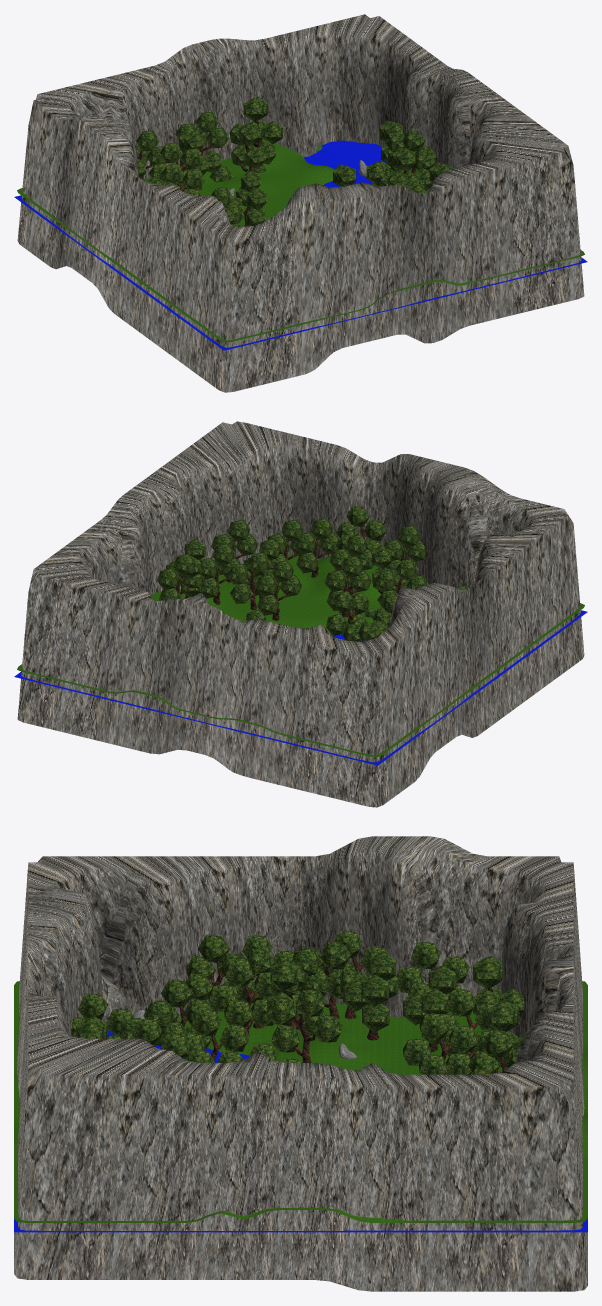
Rendered from homebb.obj.
3 views of the same model, one above another, from view 1: azimuth 30°, elevation 25°; view 2: azimuth 150°, elevation 25°; view 3: azimuth 270°, elevation 25° (orthographic). The views are drawn at different scales.
Visible parts, largest first — view 1: Plane, Plane1, Plane2; view 2: Plane, Plane1, Plane2; view 3: Plane, Plane1, Plane2, Icosahedron106, Icosahedron77, Icosahedron69, Icosahedron52, Icosahedron136, Icosahedron121, Icosahedron131, Icosahedron154, Icosahedron57 (+19 smaller).
Boxes of the visible parts, <box> form: Plane: <box>17,14,584,392</box>; Plane1: <box>17,139,584,342</box>; Plane2: <box>14,140,587,350</box>; Plane: <box>17,421,584,807</box>; Plane1: <box>17,554,584,757</box>; Plane2: <box>14,610,587,765</box>; Plane: <box>14,836,587,1291</box>; Plane1: <box>14,981,587,1222</box>; Plane2: <box>14,1030,587,1232</box>; Icosahedron106: <box>487,1001,515,1031</box>; Icosahedron77: <box>361,974,388,1006</box>; Icosahedron69: <box>473,957,500,988</box>; Icosahedron52: <box>270,959,297,991</box>; Icosahedron136: <box>482,1029,514,1058</box>; Icosahedron121: <box>160,979,192,1007</box>; Icosahedron131: <box>197,934,229,963</box>; Icosahedron154: <box>101,975,128,1022</box>; Icosahedron57: <box>319,941,351,969</box>.
Size of the model in its own units: 52.68 by 22.52 by 52.68.
Materials: 6 (6 with a texture image).
